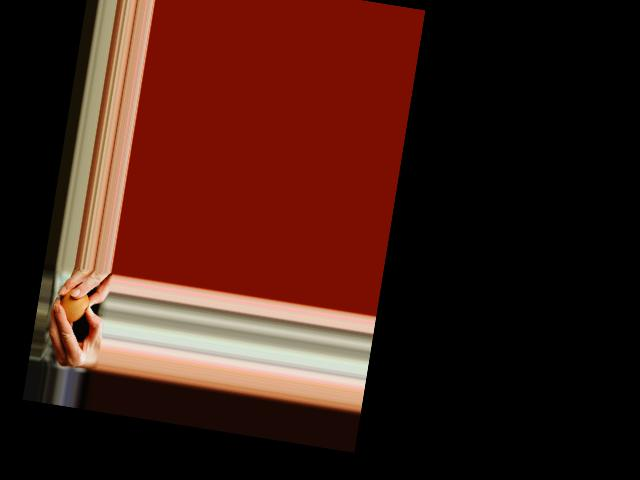egg: (57, 285, 90, 324)
